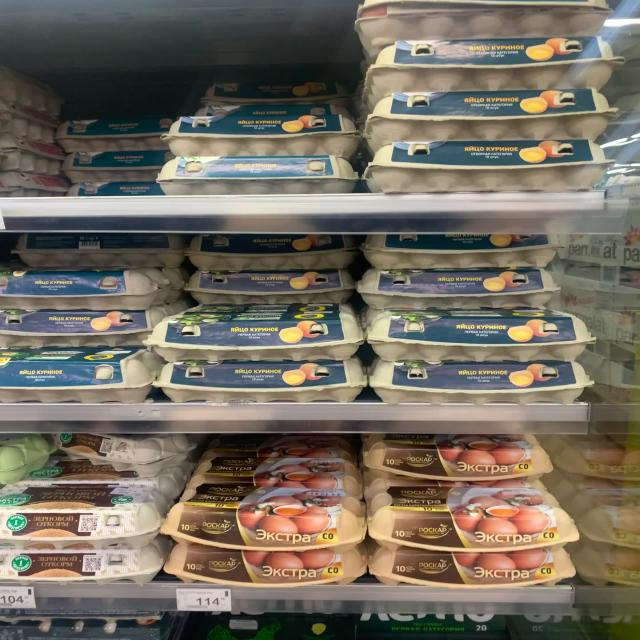egg box: (362, 480, 584, 552), (158, 476, 360, 551), (356, 87, 618, 138), (357, 136, 613, 187), (356, 304, 600, 357), (352, 36, 604, 87), (149, 294, 363, 354), (364, 537, 588, 593), (154, 536, 362, 591), (357, 428, 555, 483), (359, 357, 602, 401), (2, 475, 158, 542), (144, 355, 354, 402), (162, 104, 356, 152), (349, 263, 566, 305), (151, 147, 362, 190), (180, 439, 358, 485), (2, 348, 152, 400), (364, 230, 554, 270), (181, 228, 353, 271), (5, 540, 159, 588), (5, 264, 163, 307), (38, 423, 172, 469), (0, 308, 144, 349), (181, 271, 353, 305), (57, 108, 162, 149), (57, 147, 169, 177), (6, 221, 12, 226)
